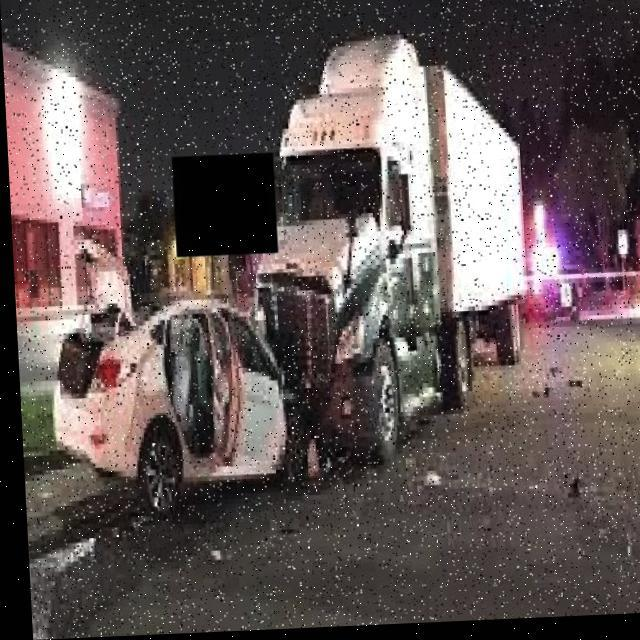multiple_accident: (154, 179, 560, 481)
